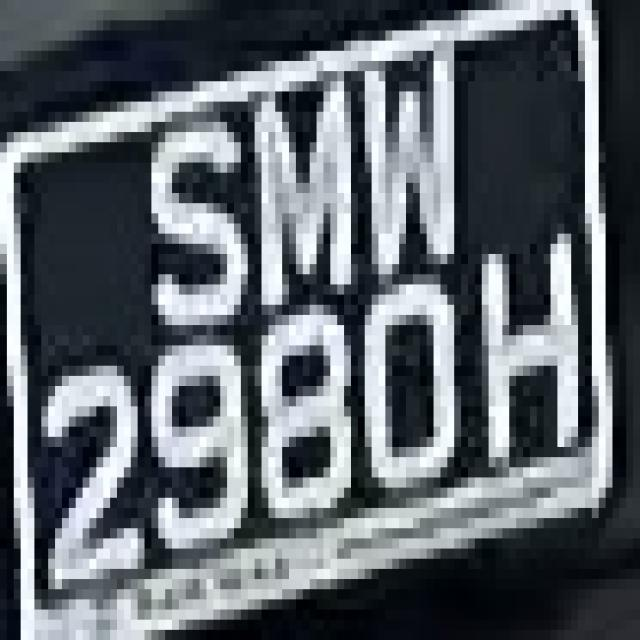0: (351, 285, 468, 518)
2: (21, 356, 138, 620)
8: (248, 274, 378, 549)
9: (124, 315, 275, 589)
H: (482, 203, 585, 488)
M: (220, 51, 365, 325)
S: (130, 91, 248, 386)
W: (351, 61, 461, 284)
